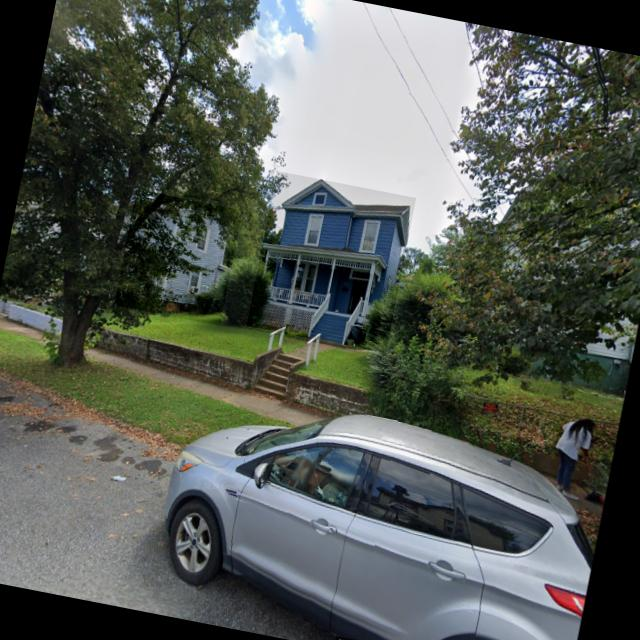House: (247, 172, 416, 354), (114, 190, 242, 326)
